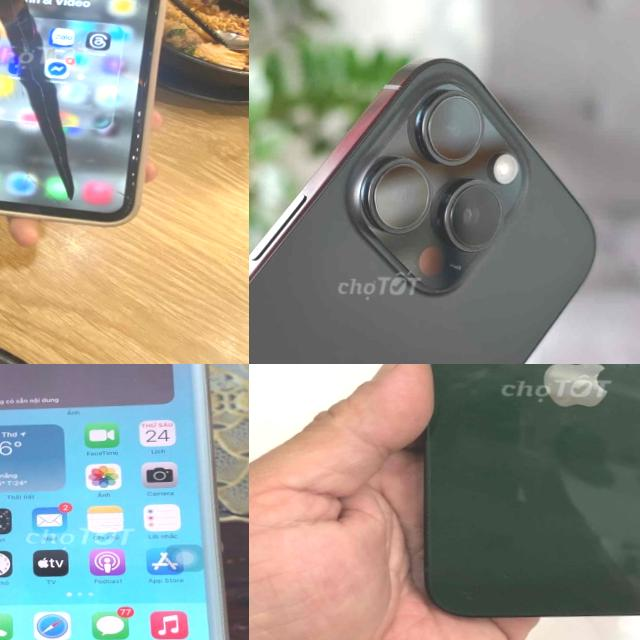gen_11: (0, 0, 163, 224)
gen_12_13: (410, 364, 640, 632)
gen_16: (249, 43, 607, 364)
gen_7_8: (0, 364, 247, 640)
